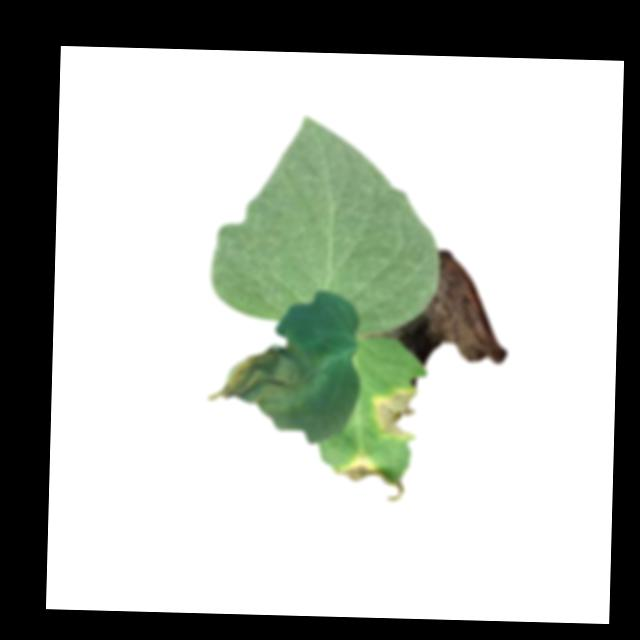Late_blight: (363, 246, 513, 369), (205, 340, 316, 411), (370, 388, 418, 441), (331, 451, 397, 485)
healthy: (210, 114, 444, 337)
